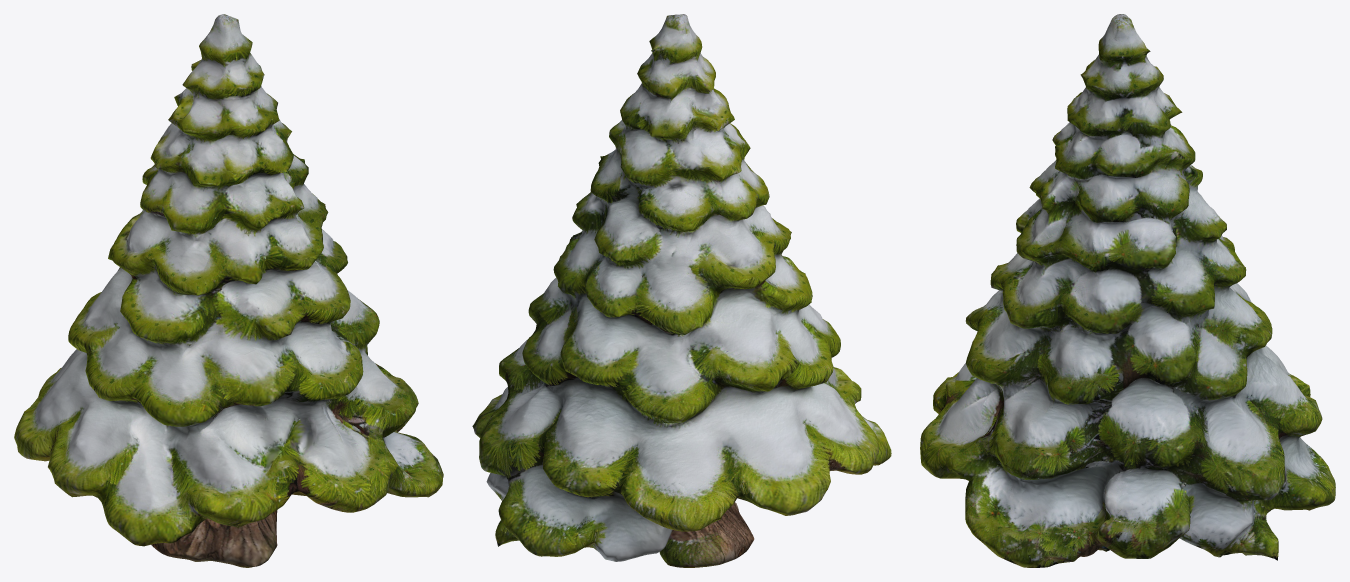
Rendered from snowy-pine-tree.glb.
The picture shows the model from 3 angles, left to right: view 1: azimuth 30°, elevation 25°; view 2: azimuth 150°, elevation 25°; view 3: azimuth 270°, elevation 25°; orthographic projection.
Size of the model in its own units: 0.8734 by 1.2 by 0.8604.
Materials: 1 (1 with a texture image).
